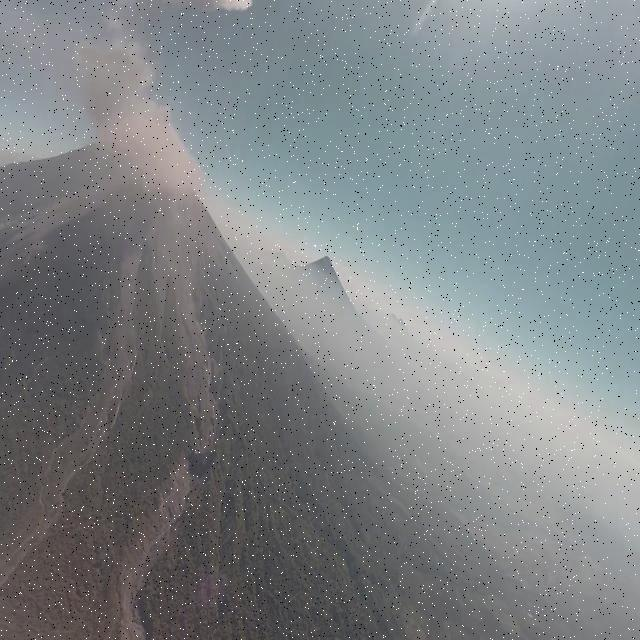Plume: (76, 28, 206, 198)
